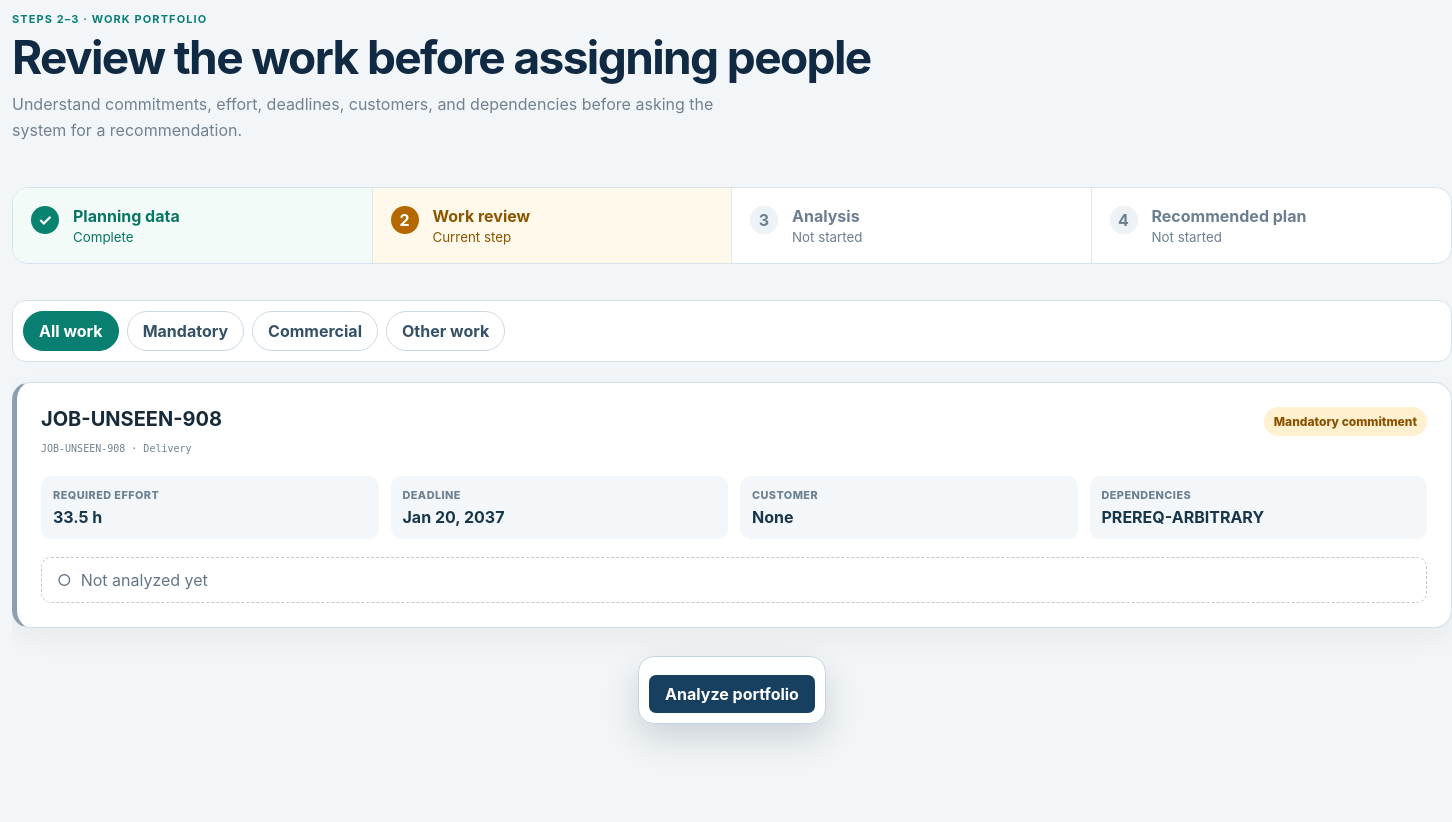
Test case: WorkItems staged workflow › filters the work portfolio without assuming canonical categories or IDs
Click the button "Other work".
click(446, 332)  # box top-left (386, 312), bottom-right (505, 352)
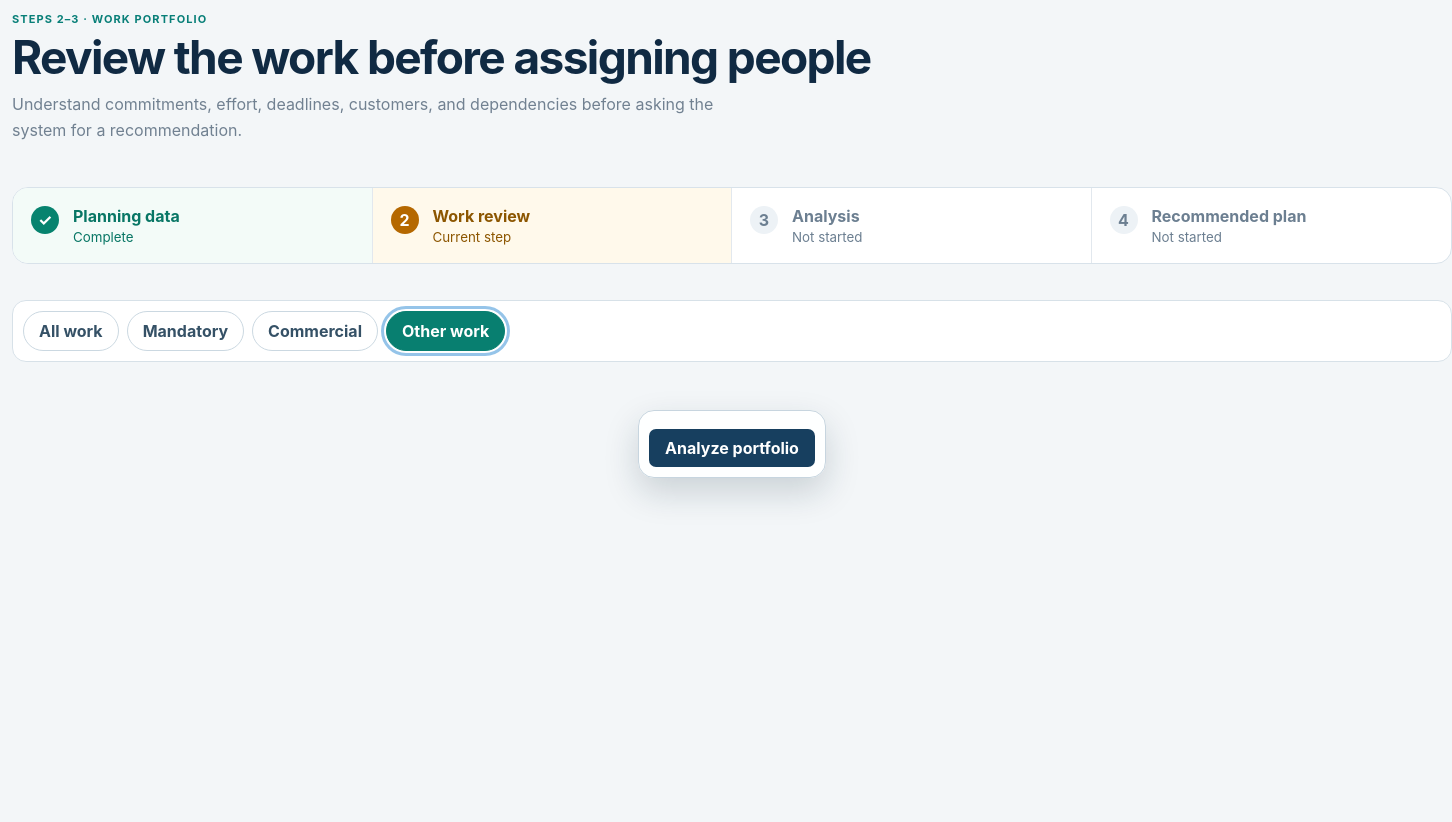
Result: the button "JOB-UNSEEN-908" is gone
Click the button "Mandatory".
click(185, 332)  # box top-left (127, 312), bottom-right (244, 352)
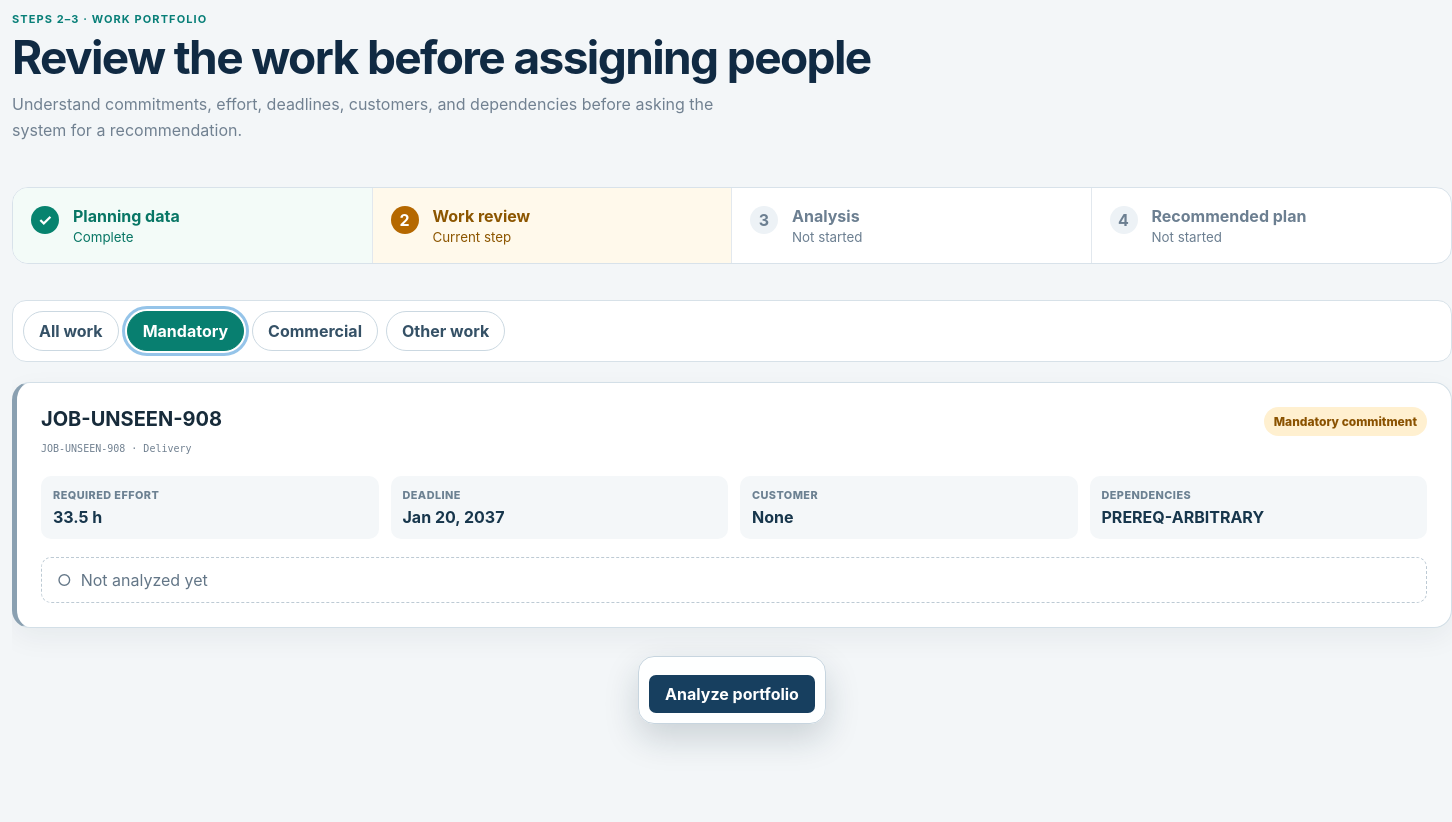
Result: the heading "JOB-UNSEEN-908" is shown at top-left (41, 408), bottom-right (222, 432)
